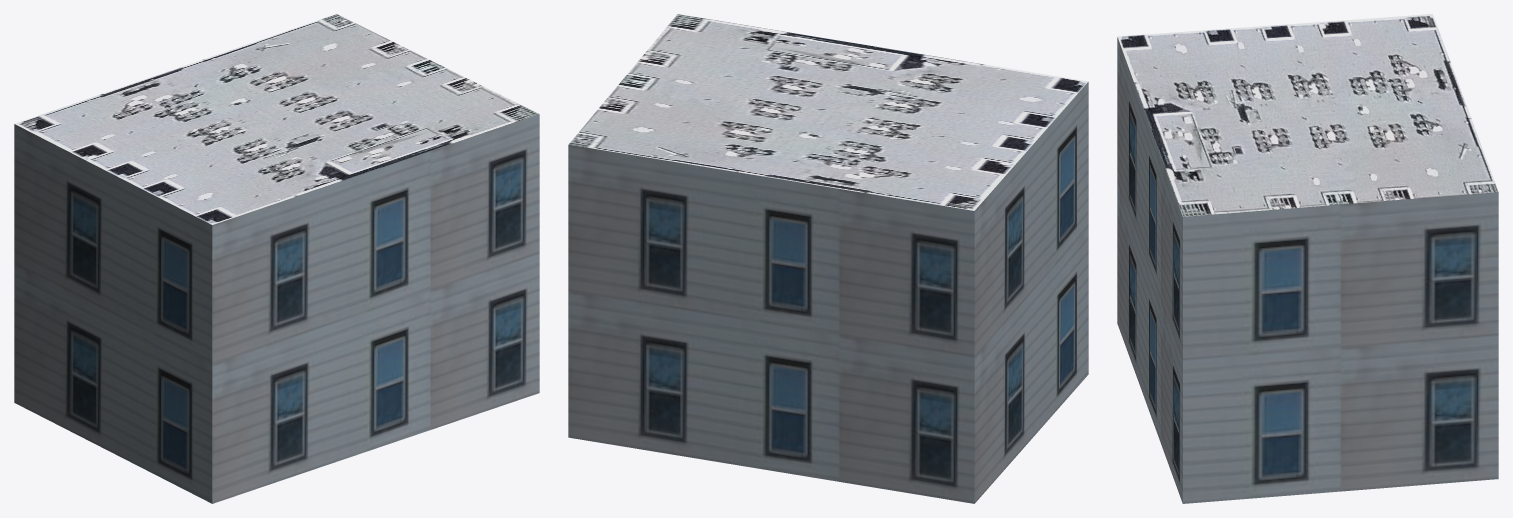
File: ResTex__2839.fbx
3 views of the same model, side by side, from view 1: azimuth 30°, elevation 25°; view 2: azimuth 150°, elevation 25°; view 3: azimuth 270°, elevation 25° (orthographic). The views are drawn at different scales.
Visible parts, largest first — view 1: CityEngineMaterial_18_m, CityEngineMaterial_m; view 2: CityEngineMaterial_18_m, CityEngineMaterial_m; view 3: CityEngineMaterial_18_m, CityEngineMaterial_m.
Boxes of the visible parts, x1,y1,x2,y2 form: CityEngineMaterial_18_m: (14,114,539,503); CityEngineMaterial_m: (14,14,539,224); CityEngineMaterial_18_m: (568,82,1088,503); CityEngineMaterial_m: (569,14,1087,210); CityEngineMaterial_18_m: (1117,37,1498,503); CityEngineMaterial_m: (1117,14,1498,216).
Bounding box in the file's own units: 9.1 × 6 × 7.22.
Materials: 2 (2 with a texture image).
